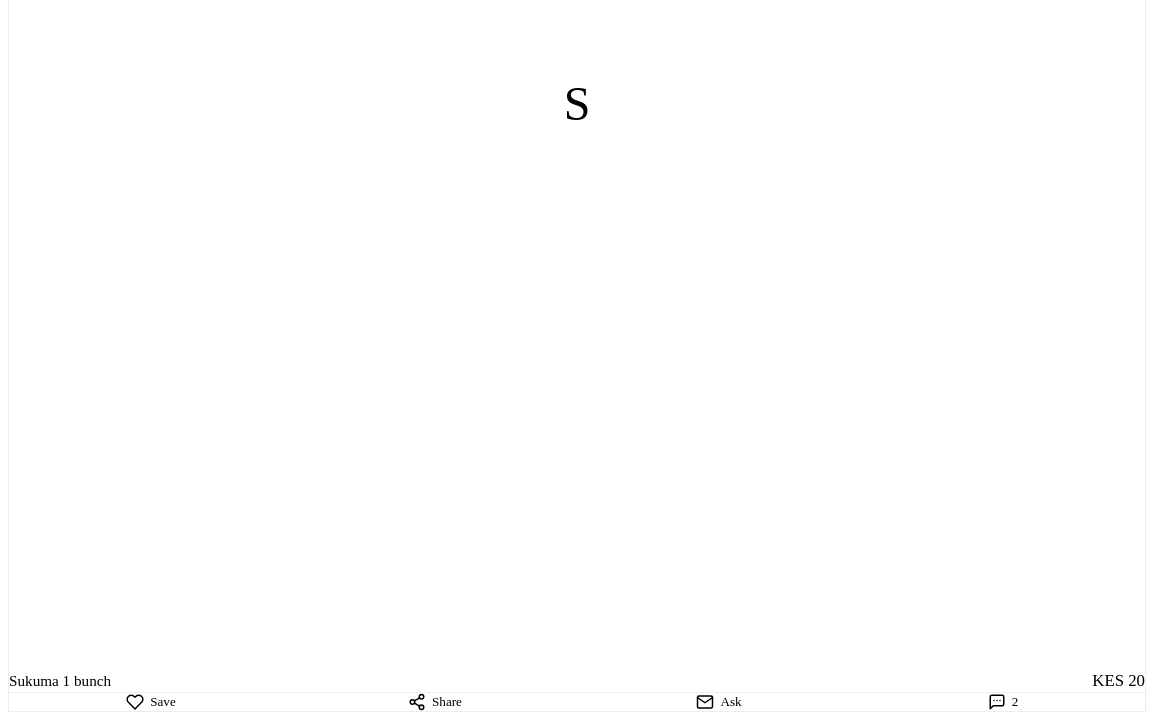
Scenario: ProductCard — engagement bar › opens the comment thread on demand (no fetch until opened — avoids N+1)
(page scrolled)
Click the button with test id "comments-btn" at (1003, 702), box [861,692,1145,710]
(page scrolled)
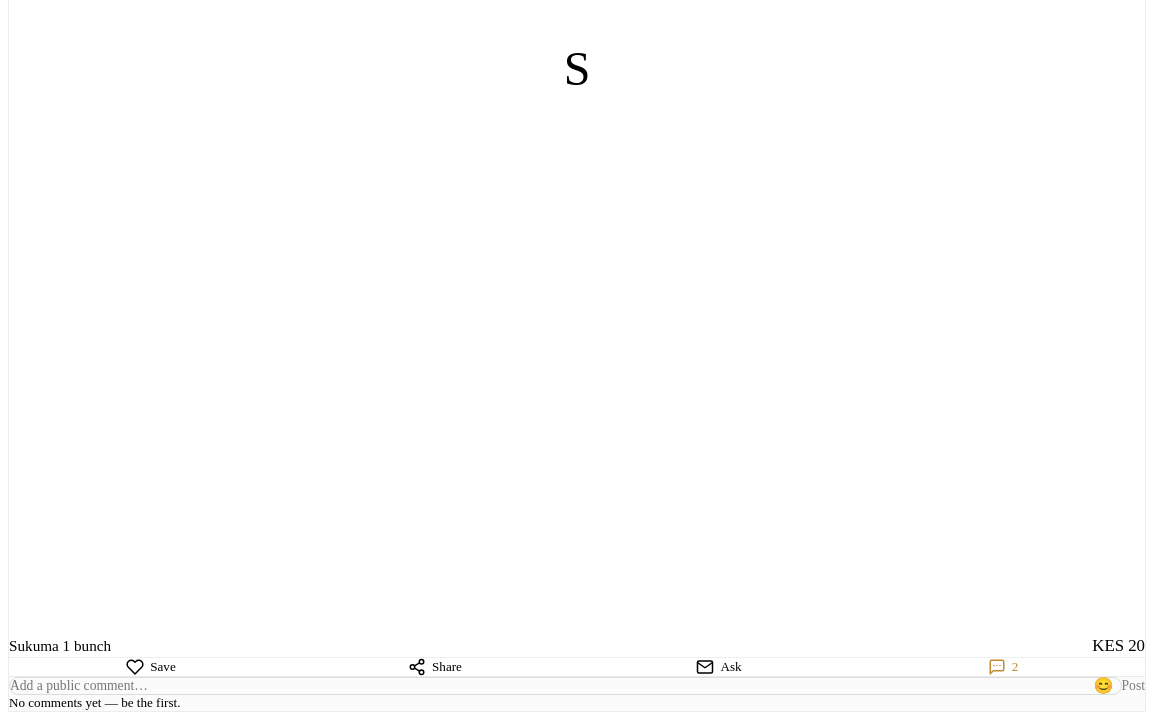
Expected: the element with test id "comment-thread" is shown, [9,676,1145,710]
